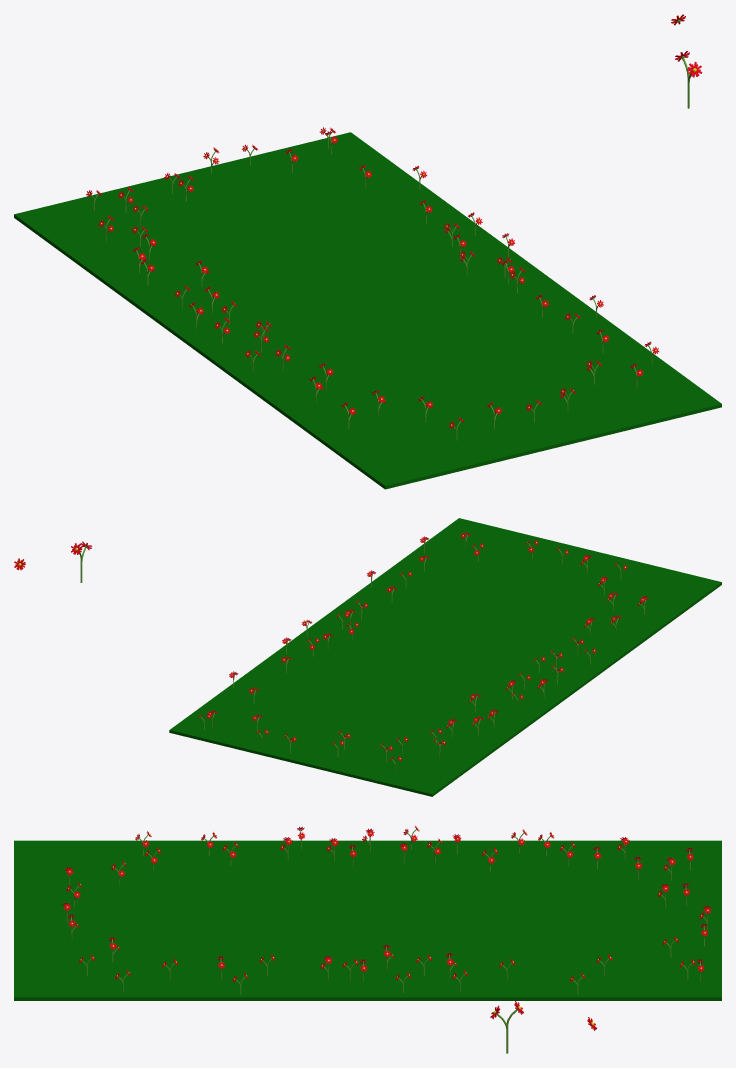
The model's file is FlowerField.fbx.
3 views of the same model, one above another, from view 1: azimuth 30°, elevation 25°; view 2: azimuth 150°, elevation 25°; view 3: azimuth 270°, elevation 25° (orthographic). The views are drawn at different scales.
Parts seen in each view (by area): view 1: Cube, Cube.001; view 2: Cube, Cube.001; view 3: Cube, Cube.001.
Boxes of the visible parts, x1,y1,x2,y2 form: Cube: (14,132,544,359); Cube.001: (208,274,721,489); Cube: (169,619,583,796); Cube.001: (321,518,721,685); Cube: (351,840,721,1000); Cube.001: (14,840,384,1000).
Bounding box in the file's own units: 35854 × 6340 × 38174.
